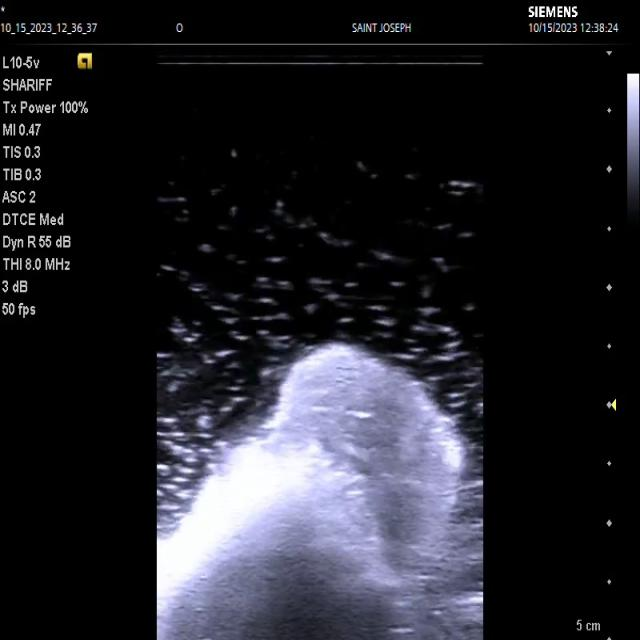tissue: (157, 342, 464, 640)
